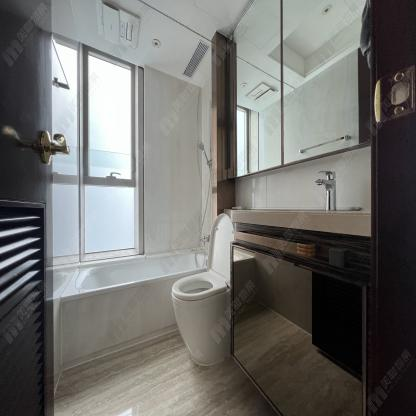Bathtub: (60, 247, 208, 372)
Faucet: (315, 168, 339, 211)
Thermo Ventilator: (94, 0, 140, 51)
Toilet: (171, 214, 233, 365)
